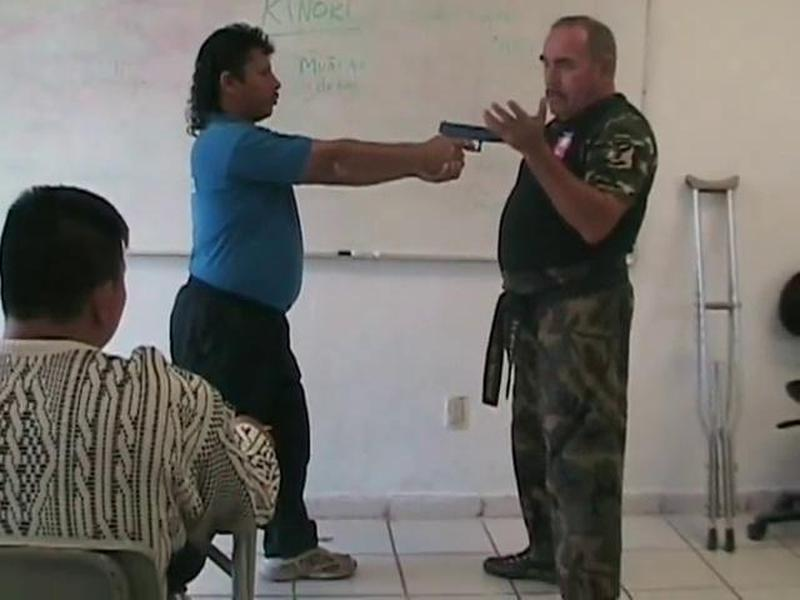Pistola: (407, 95, 461, 214)
